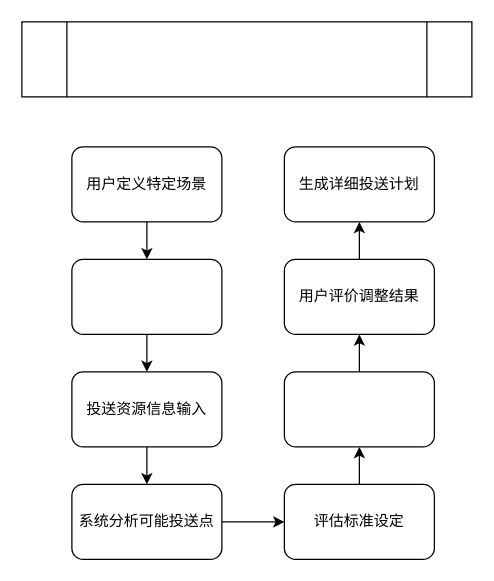
This 494x581 diagram has some shape labels left out. Here are the shapes that lost their labels. From the top down, the centre of each, then its label:
At [246,59]: "特定场景下人员和车辆的投送点计算".
At [146,296]: "系统预载地理环境".
At [358,409]: "计算推荐最佳投送点".
